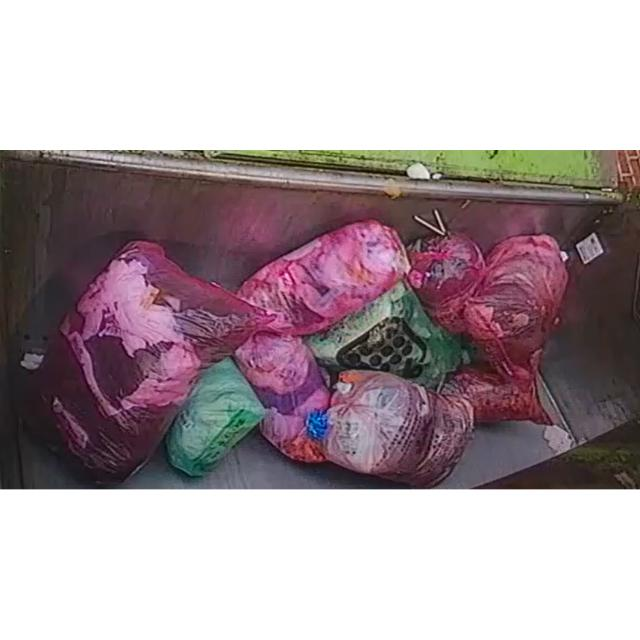general_trashbag: (305, 281, 471, 392), (166, 359, 266, 476)
other_trashbag: (21, 240, 274, 483), (306, 371, 474, 488), (238, 220, 409, 334), (464, 235, 569, 379), (235, 332, 331, 462), (441, 349, 572, 438), (408, 235, 485, 333)
